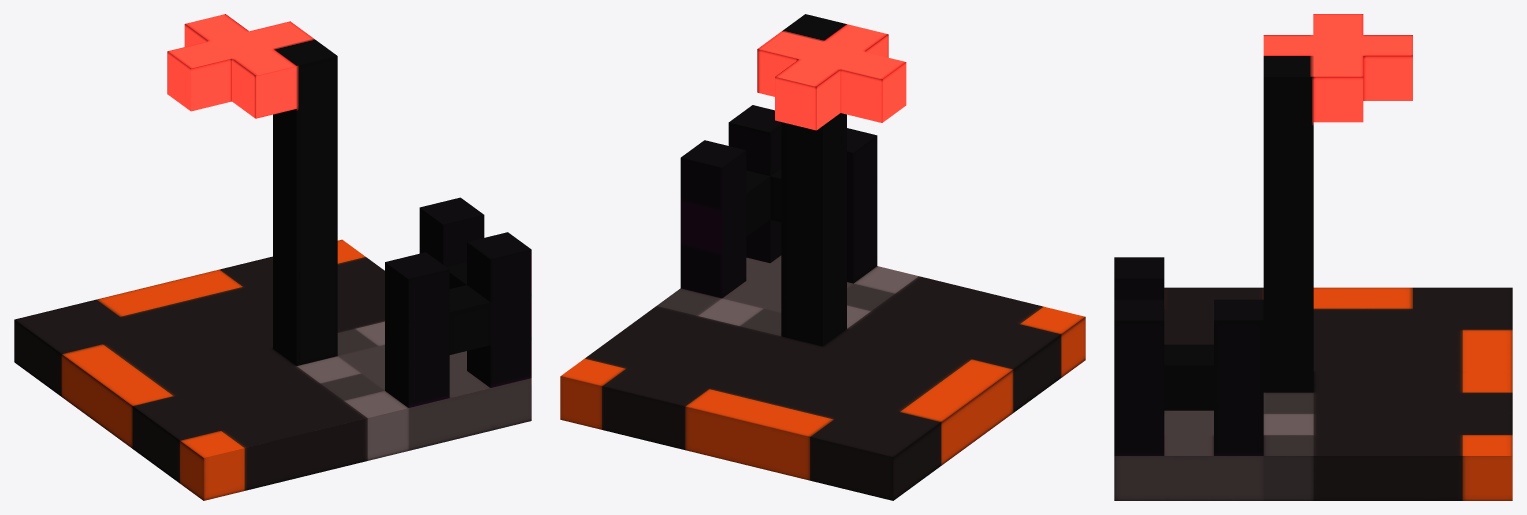
3 renders of one model, left to right at view 1: azimuth 30°, elevation 25°; view 2: azimuth 150°, elevation 25°; view 3: azimuth 270°, elevation 25°, orthographic. The views are drawn at different scales.
Visible parts, largest first — view 1: road1.vox; view 2: road1.vox; view 3: road1.vox.
Part boxes in pixels (x1,y1,x2,y2): road1.vox: (14, 14, 531, 500); road1.vox: (560, 14, 1085, 500); road1.vox: (1114, 14, 1512, 500).
Size of the model in its own units: 0.8 by 0.8 by 0.8.
Materials: 3 (3 with a texture image).
